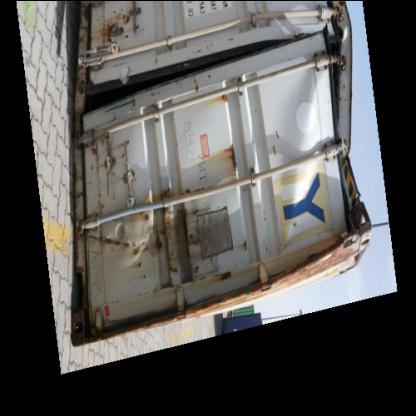Damage: (285, 52, 369, 283), (88, 196, 182, 260), (87, 128, 145, 174), (92, 4, 144, 54), (195, 264, 242, 292), (221, 131, 245, 175)
